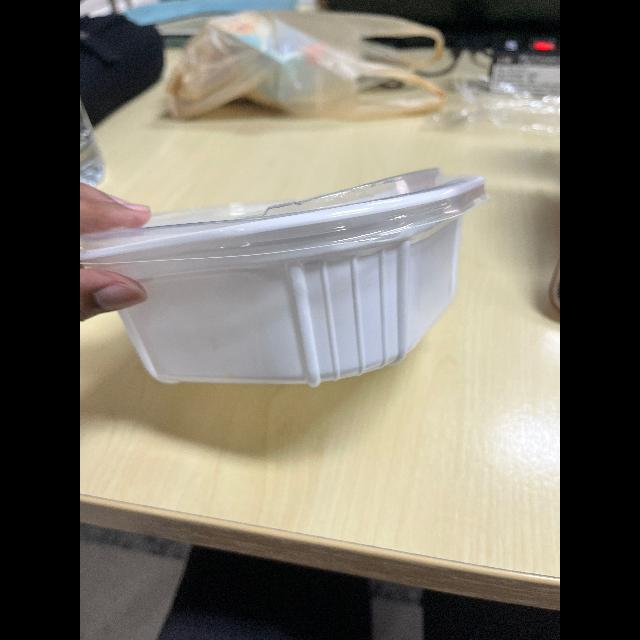plastic_box: (80, 145, 500, 397)
